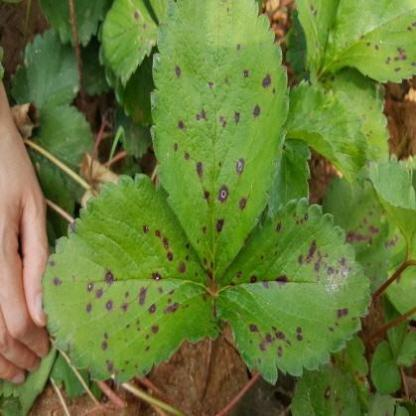Strawberry_Leaf_Spot: (148, 0, 290, 285), (39, 168, 221, 388), (214, 197, 373, 387), (320, 173, 408, 295), (307, 0, 415, 84), (308, 67, 392, 163), (100, 0, 158, 89), (294, 362, 362, 415), (282, 0, 322, 88), (332, 336, 370, 415)
